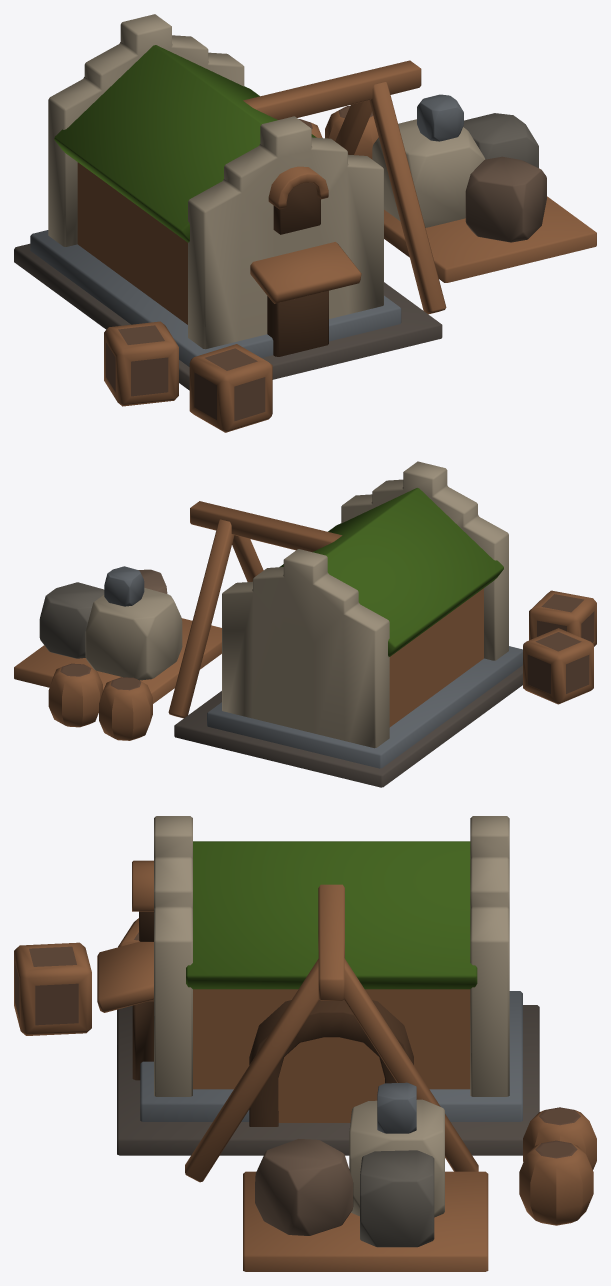
Rendered from Quarry.fbx.
3 views of the same model, one above another, from view 1: azimuth 30°, elevation 25°; view 2: azimuth 150°, elevation 25°; view 3: azimuth 270°, elevation 25° (orthographic). The views are drawn at different scales.
Visible parts, largest first — view 1: Cube.1501, Cube.1503, Cube.1502, Cube.1506, Cube.1504, Cube.1505, Cube.1512, Cube.1507, Cube.1561, Cube.1525, Cube.1562, Cube.1511 (+7 smaller); view 2: Cube.1501, Cube.1503, Cube.1506, Cube.1504, Cube.1507, Cube.1502, Cube.1512, Cube.1562, Cube.1511, Cube.1526, Cube.1505, Cylinder.332 (+4 smaller); view 3: Cube.1503, Cube.1501, Cube.1502, Cube.1505, Cube.1510, Cube.1504, Cube.1512, Cube.1525, Cube.1526, Cube.1561, Cube.1506, Cylinder.333 (+7 smaller).
Boxes of the visible parts, <box> form: Cube.1501: <box>48,14,383,349</box>; Cube.1503: <box>54,45,316,242</box>; Cube.1502: <box>77,162,187,324</box>; Cube.1506: <box>30,230,401,366</box>; Cube.1504: <box>14,243,442,390</box>; Cube.1505: <box>384,196,596,282</box>; Cube.1512: <box>335,82,446,314</box>; Cube.1507: <box>372,119,485,227</box>; Cube.1561: <box>189,344,272,432</box>; Cube.1525: <box>465,156,546,242</box>; Cube.1562: <box>104,321,178,406</box>; Cube.1511: <box>243,60,421,119</box>; Cube.1501: <box>222,461,508,748</box>; Cube.1503: <box>279,488,503,656</box>; Cube.1506: <box>207,646,522,768</box>; Cube.1504: <box>174,665,522,787</box>; Cube.1507: <box>85,588,182,680</box>; Cube.1502: <box>389,588,483,727</box>; Cube.1512: <box>168,519,263,718</box>; Cube.1562: <box>523,628,593,704</box>; Cube.1511: <box>190,501,342,551</box>; Cube.1526: <box>39,582,104,658</box>; Cube.1505: <box>14,618,221,703</box>; Cylinder.332: <box>99,677,152,740</box>; Cube.1503: <box>186,841,477,989</box>; Cube.1501: <box>154,816,509,1096</box>; Cube.1502: <box>193,989,470,1089</box>; Cube.1505: <box>243,1171,488,1271</box>; Cube.1510: <box>249,1000,413,1126</box>; Cube.1504: <box>117,1005,539,1155</box>; Cube.1512: <box>185,958,478,1182</box>; Cube.1525: <box>255,1139,353,1235</box>; Cube.1526: <box>360,1150,434,1247</box>; Cube.1561: <box>14,942,91,1035</box>; Cube.1506: <box>140,991,522,1121</box>; Cylinder.333: <box>519,1140,593,1225</box>.
Bounding box in the file's own units: 202 × 86.41 × 171.
